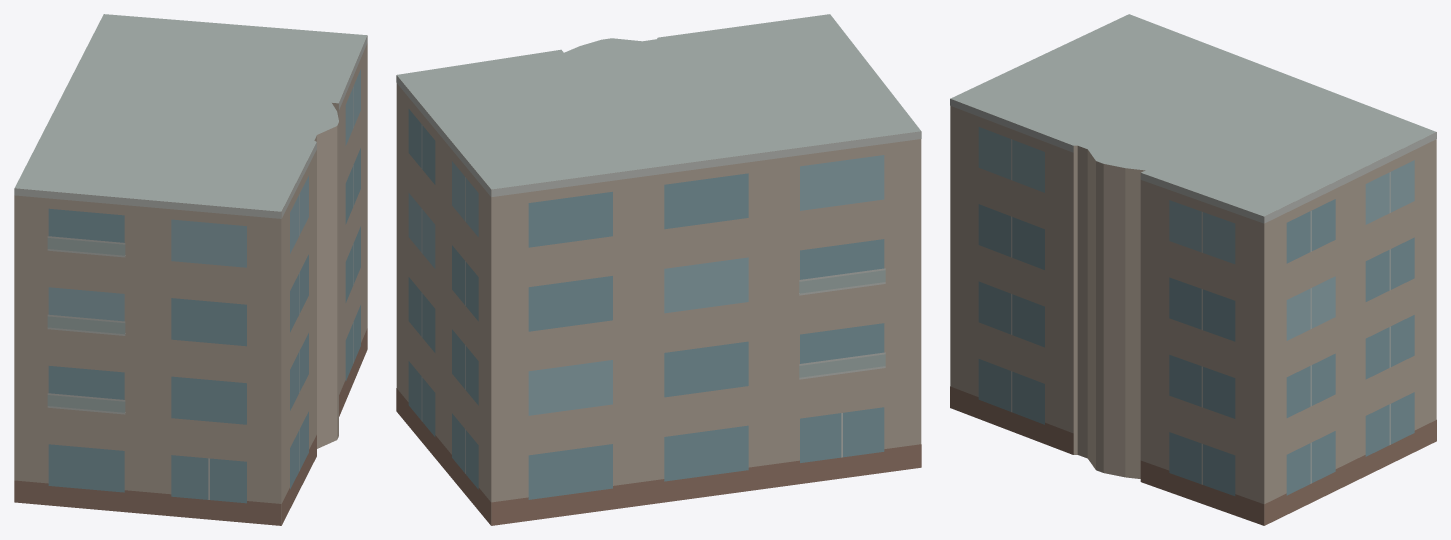
Rendered from survey-upis-32625703.glb.
The picture shows the model from 3 angles, left to right: view 1: azimuth 30°, elevation 25°; view 2: azimuth 150°, elevation 25°; view 3: azimuth 270°, elevation 25°; orthographic projection. The views are drawn at different scales.
Parts seen in each view (by area): view 1: survey-upis-32625703.tmp; view 2: survey-upis-32625703.tmp; view 3: survey-upis-32625703.tmp.
Boxes of the visible parts, left/top/right/bottom form: survey-upis-32625703.tmp: left=14, top=14, right=367, bottom=525; survey-upis-32625703.tmp: left=396, top=14, right=921, bottom=525; survey-upis-32625703.tmp: left=950, top=14, right=1436, bottom=525.
Size of the model in its own units: 15.04 by 10.7 by 15.26.
